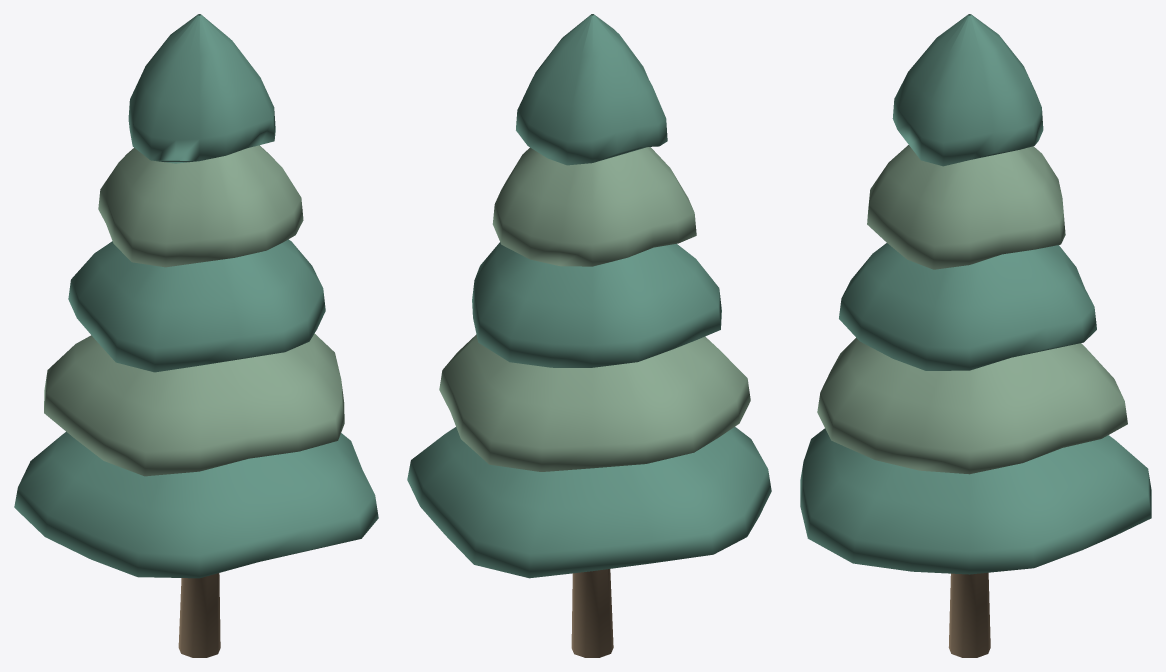
The model's file is SM_Pine_02_UV_0078.fbx.
3 views of the same model, side by side, from view 1: azimuth 30°, elevation 25°; view 2: azimuth 150°, elevation 25°; view 3: azimuth 270°, elevation 25° (orthographic).
Visible parts, largest first — view 1: SM_Pine_02_UV_0078; view 2: SM_Pine_02_UV_0078; view 3: SM_Pine_02_UV_0078.
Part boxes in pixels (x1,y1,x2,y2): SM_Pine_02_UV_0078: (14,14,378,657); SM_Pine_02_UV_0078: (407,14,771,657); SM_Pine_02_UV_0078: (800,14,1151,657).
Size of the model in its own units: 551 by 543 by 1082.
